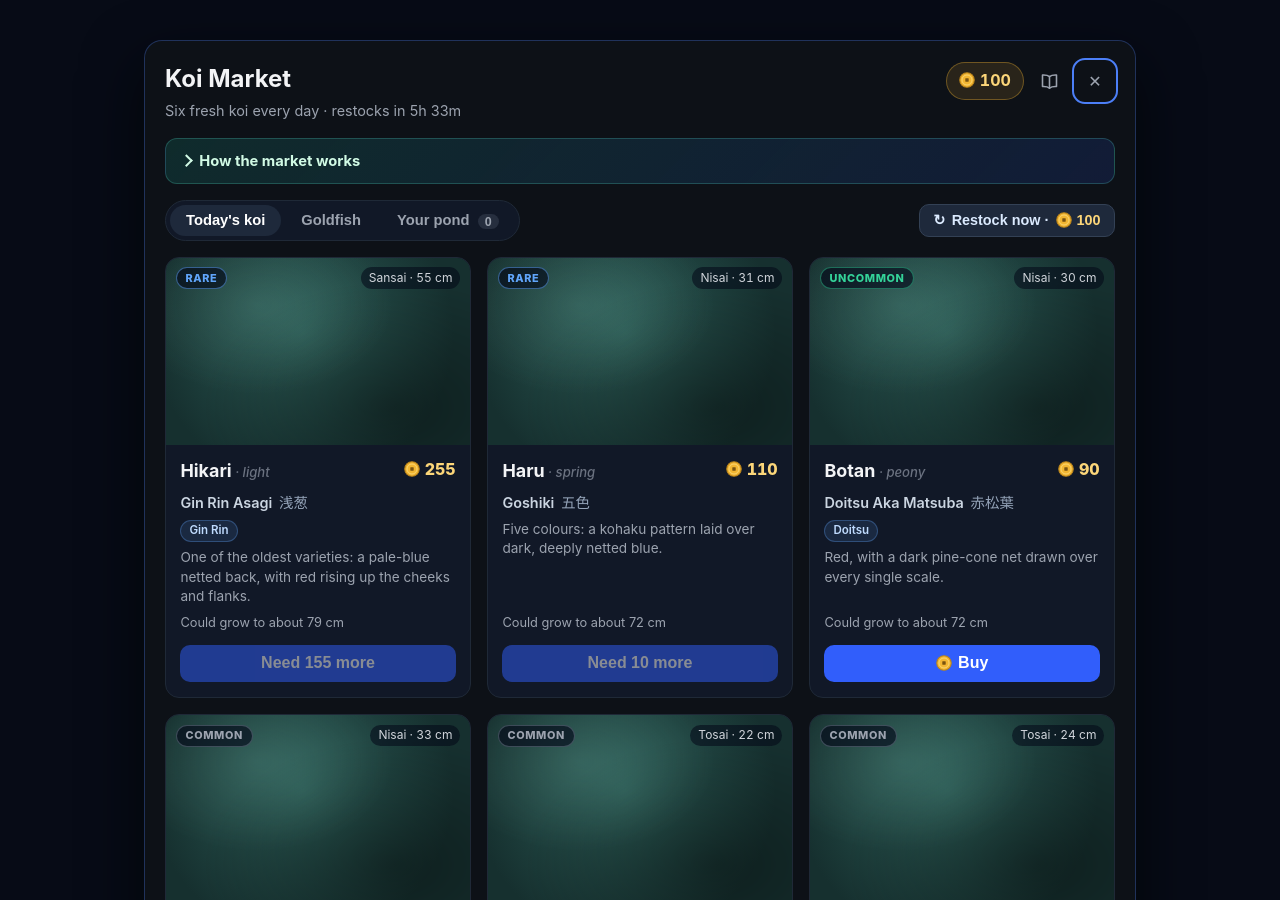
Scenario: KoiMarket › sells goldfish from their own tab, to swim alongside the koi
Click the tab "Goldfish": (331,220) left=285, top=205, right=377, bottom=236
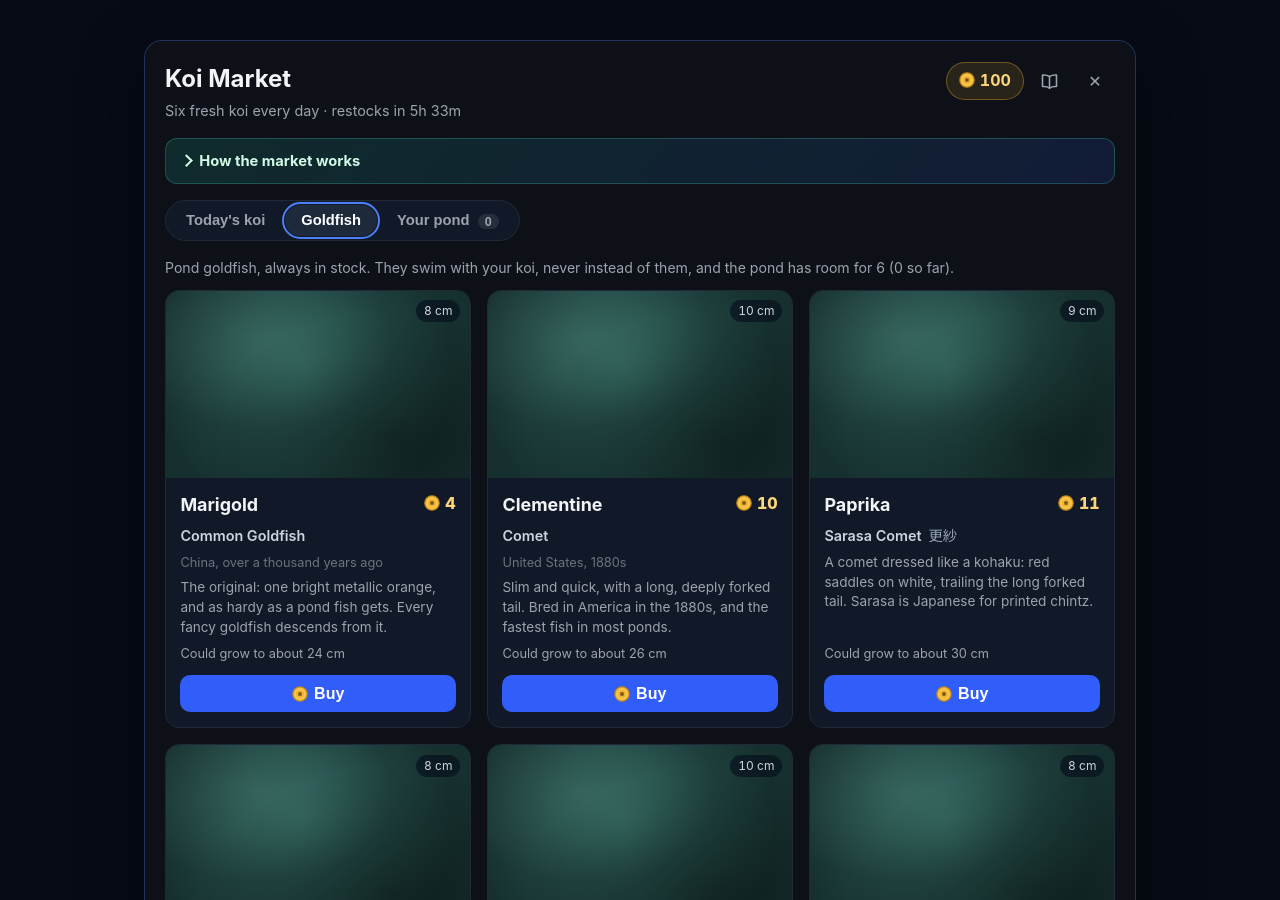
Now the panel "goldfish" shows "Pond goldfish, always in stock.", box left=165, top=259, right=876, bottom=276
Click the button "Buy" below "24 cm": (318,694) left=180, top=675, right=456, bottom=712
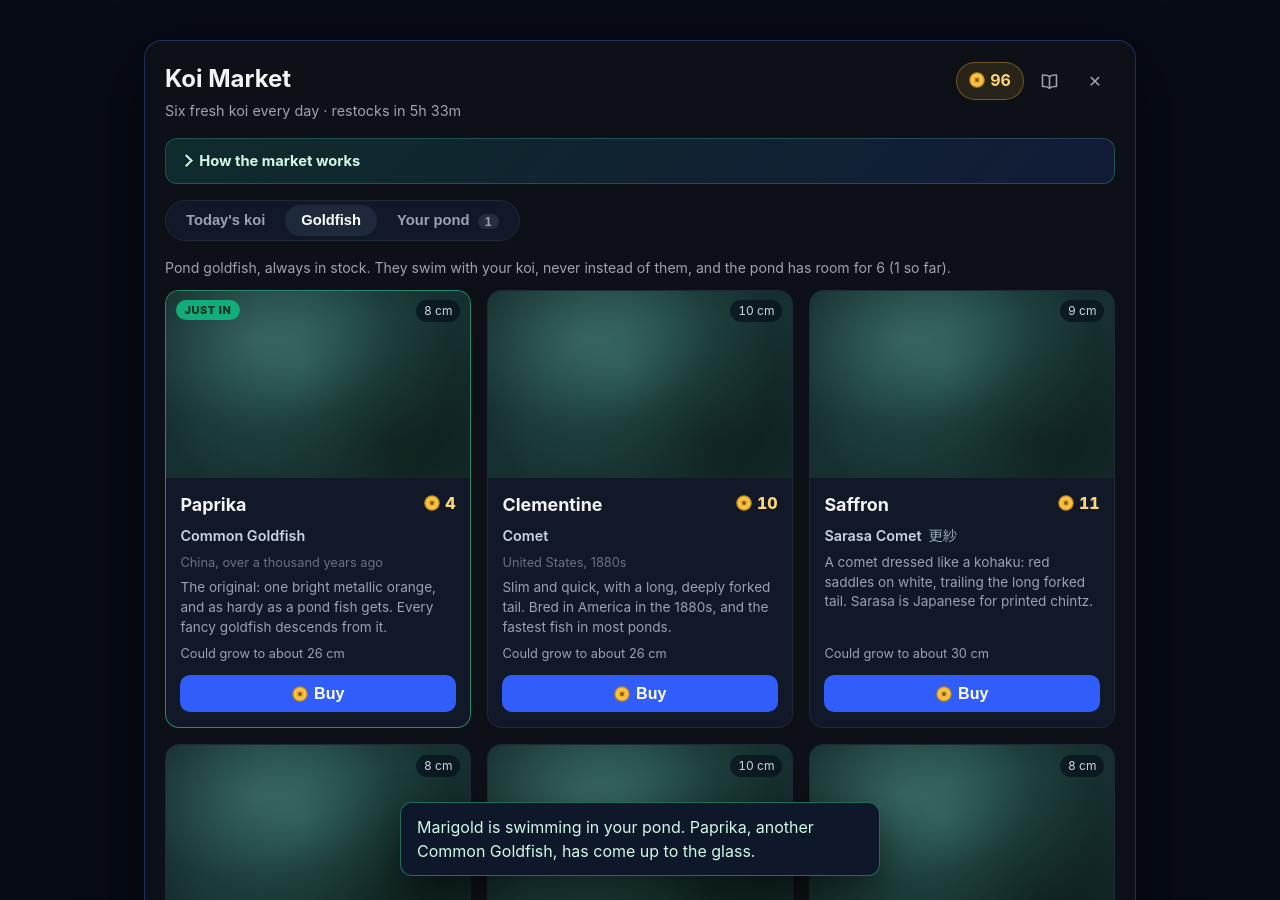
Click the tab "Your pond 1": (448,220) left=381, top=205, right=515, bottom=236
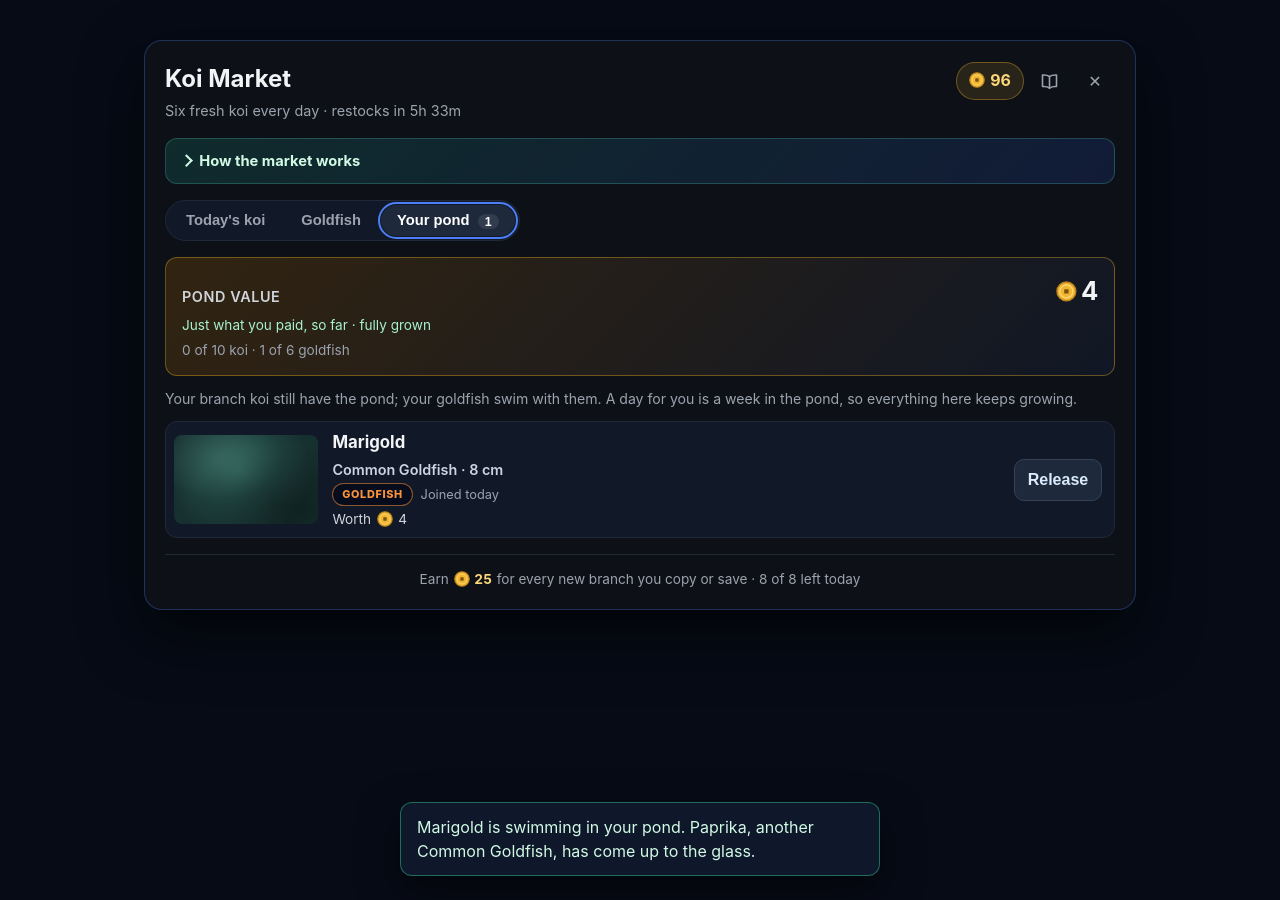
Now the list named "Your goldfish" shows "Marigold", box left=332, top=432, right=405, bottom=452
Now the text "branch koi still have the pond" is shown, box left=165, top=390, right=602, bottom=407
